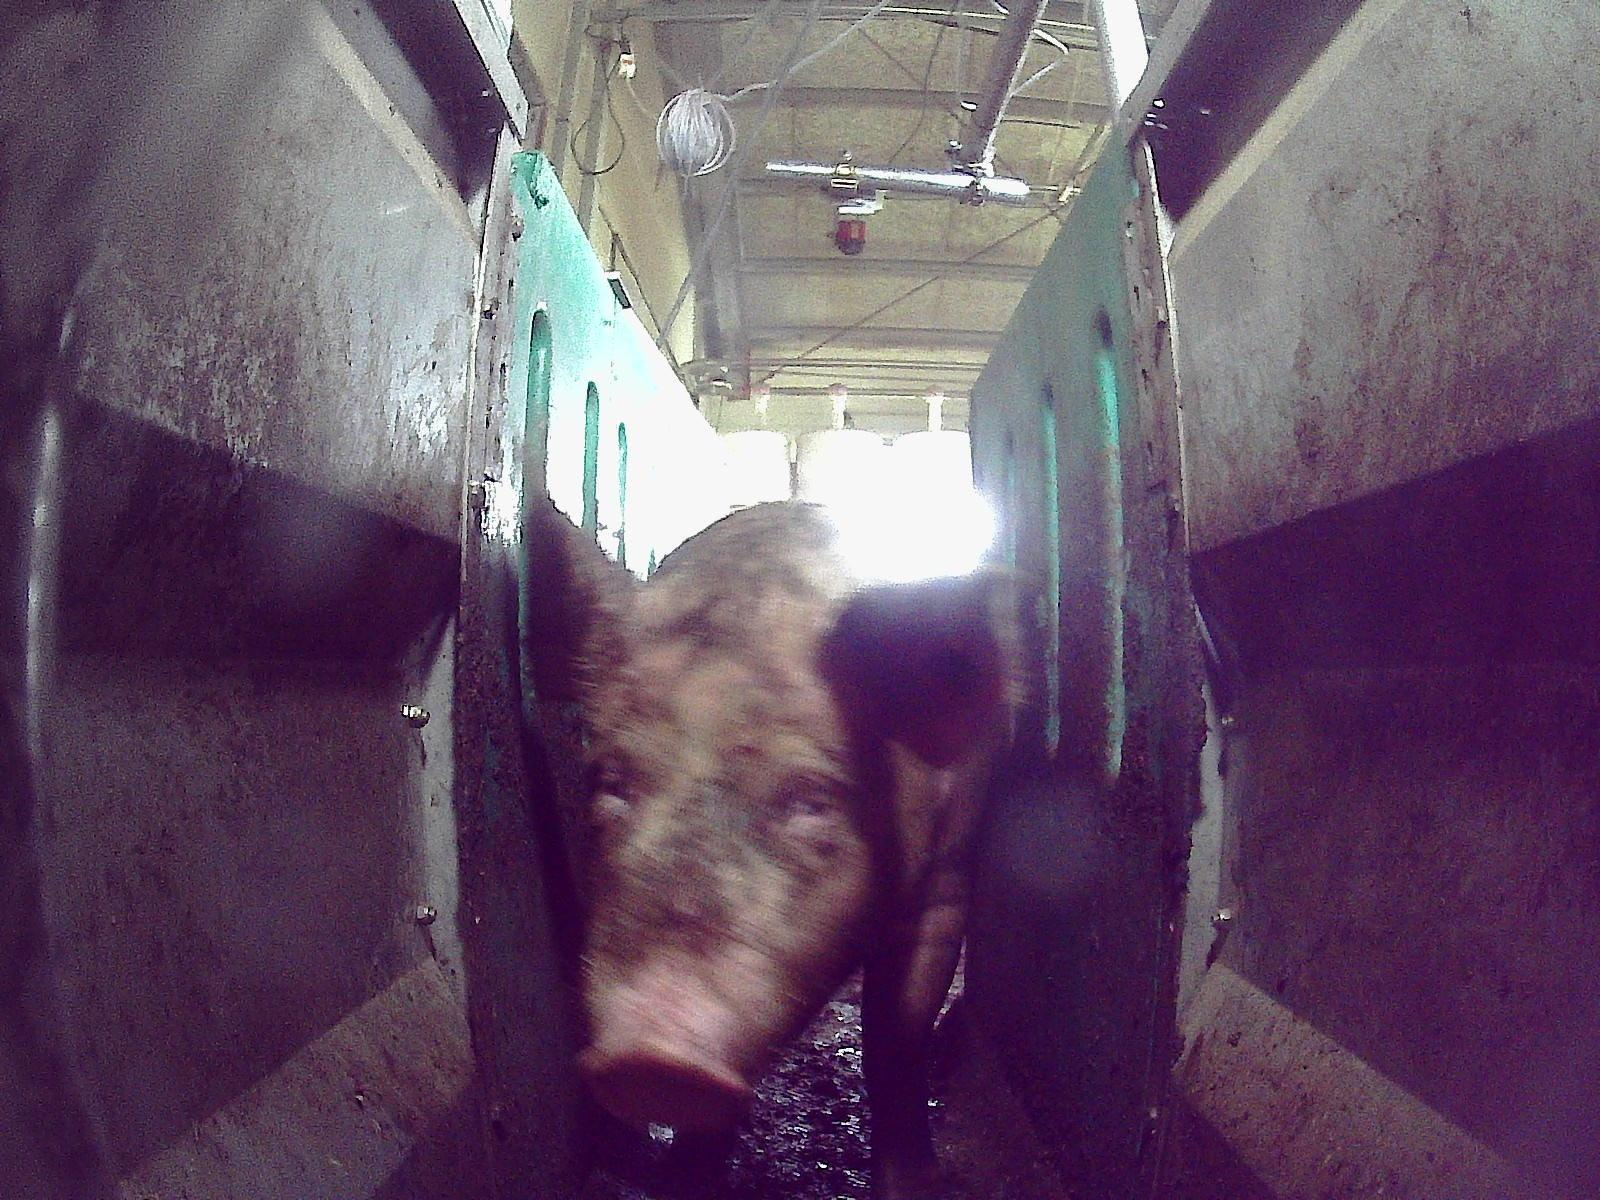Face: (564, 620, 873, 1132)
